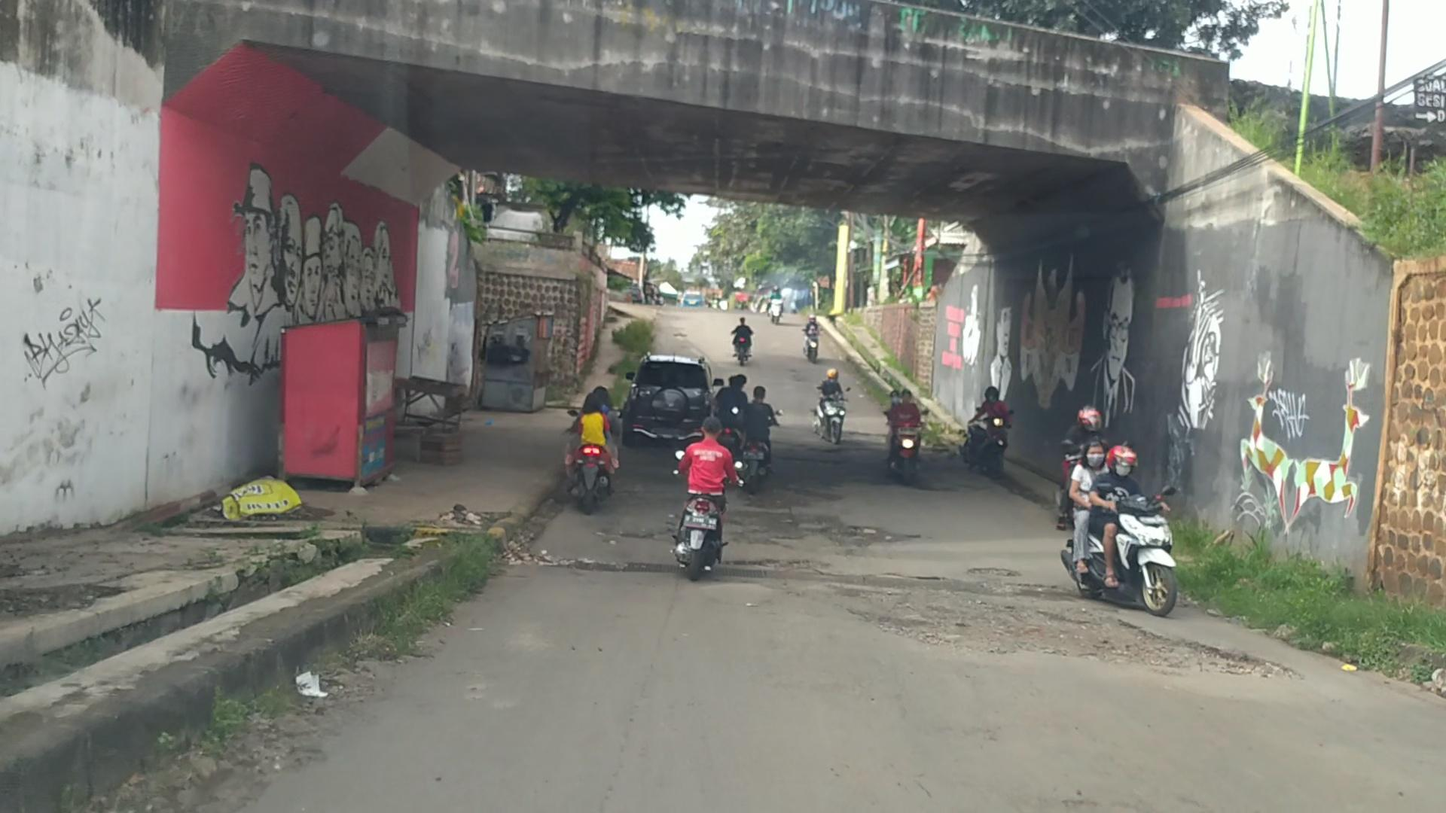pothole: (724, 558, 1303, 677), (731, 508, 923, 551), (969, 567, 1020, 579)
